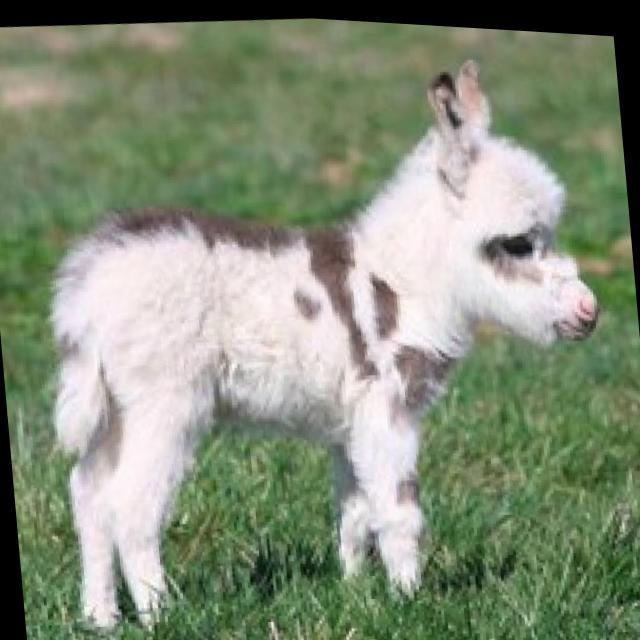Donkey: (20, 20, 627, 640)
